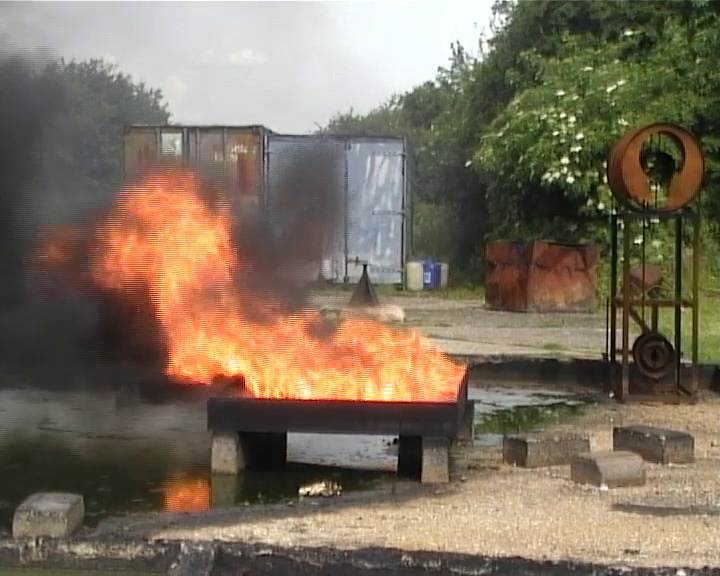fire: (93, 164, 460, 402)
